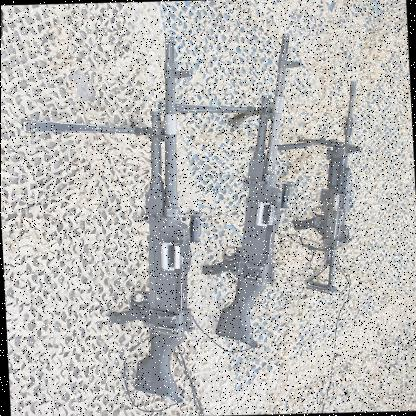rifle: (102, 32, 216, 404), (201, 31, 315, 344), (286, 77, 372, 305)
